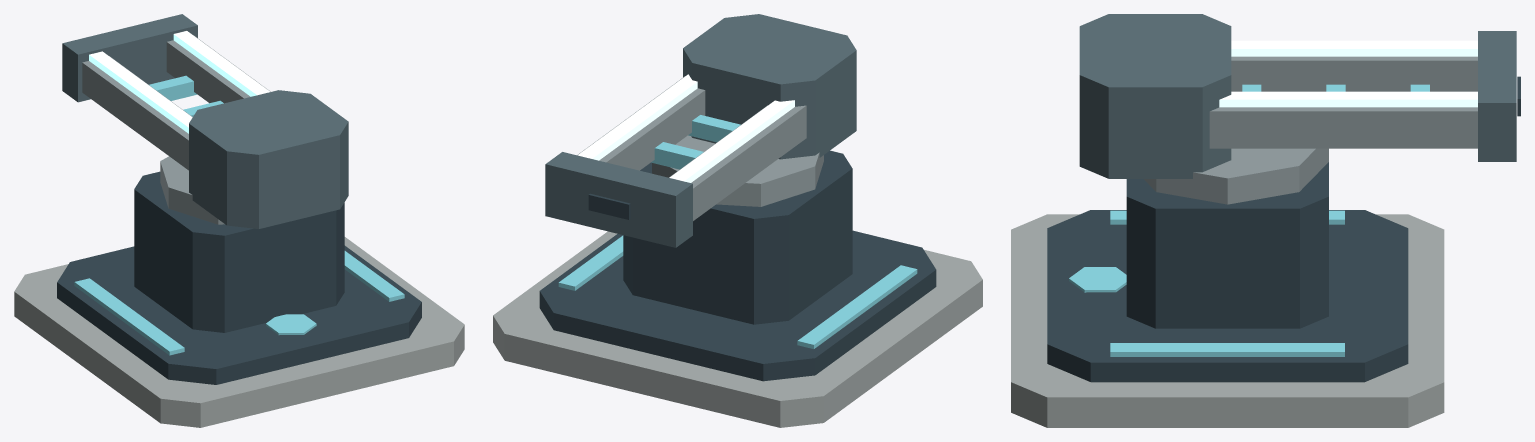
The model's file is battery-low.glb.
3 views of the same model, side by side, from view 1: azimuth 30°, elevation 25°; view 2: azimuth 150°, elevation 25°; view 3: azimuth 270°, elevation 25° (orthographic). The views are drawn at different scales.
Parts seen in each view (by area): view 1: asset_battery__FP_Baked, turret__FP_Baked, turret__FP_Signal, asset_battery__FP_Team, turret__FP_Team, Hexagon; view 2: asset_battery__FP_Baked, turret__FP_Baked, turret__FP_Signal, asset_battery__FP_Team, turret__FP_Team; view 3: asset_battery__FP_Baked, turret__FP_Baked, turret__FP_Signal, asset_battery__FP_Team, Hexagon, turret__FP_Team.
Boxes of the visible parts, left/top/right/bottom form: asset_battery__FP_Baked: left=14, top=156, right=464, bottom=427; turret__FP_Baked: left=62, top=14, right=348, bottom=228; turret__FP_Signal: left=89, top=31, right=269, bottom=133; asset_battery__FP_Team: left=74, top=251, right=404, bottom=355; turret__FP_Team: left=149, top=75, right=223, bottom=116; Hexagon: left=266, top=314, right=316, bottom=334; asset_battery__FP_Baked: left=493, top=135, right=982, bottom=427; turret__FP_Baked: left=545, top=14, right=856, bottom=247; turret__FP_Signal: left=577, top=74, right=794, bottom=182; asset_battery__FP_Team: left=558, top=235, right=917, bottom=348; turret__FP_Team: left=651, top=115, right=740, bottom=169; asset_battery__FP_Baked: left=1011, top=148, right=1444, bottom=427; turret__FP_Baked: left=1079, top=14, right=1520, bottom=178; turret__FP_Signal: left=1219, top=40, right=1477, bottom=107; asset_battery__FP_Team: left=1110, top=210, right=1344, bottom=356; Hexagon: left=1069, top=267, right=1126, bottom=292; turret__FP_Team: left=1242, top=84, right=1429, bottom=91.
Size of the model in its own units: 1.8 by 1.31 by 2.12.
